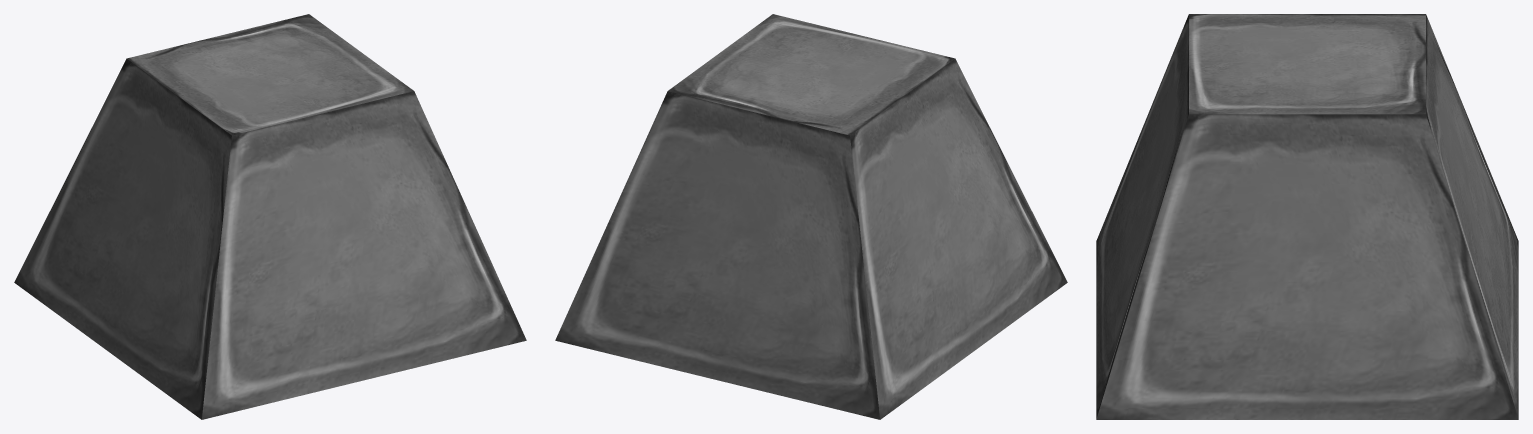
The model's file is Pillar foot.fbx.
The picture shows the model from 3 angles, left to right: view 1: azimuth 30°, elevation 25°; view 2: azimuth 150°, elevation 25°; view 3: azimuth 270°, elevation 25°; orthographic projection. The views are drawn at different scales.
Visible parts, largest first — view 1: Cube.1501; view 2: Cube.1501; view 3: Cube.1501.
Part boxes in pixels (x1=…): Cube.1501: x1=14, y1=14, x2=526, y2=419; Cube.1501: x1=555, y1=14, x2=1067, y2=419; Cube.1501: x1=1096, y1=14, x2=1518, y2=419.
Bounding box in the file's own units: 1.05 × 0.7339 × 1.05.
1 material, 1 textured.
